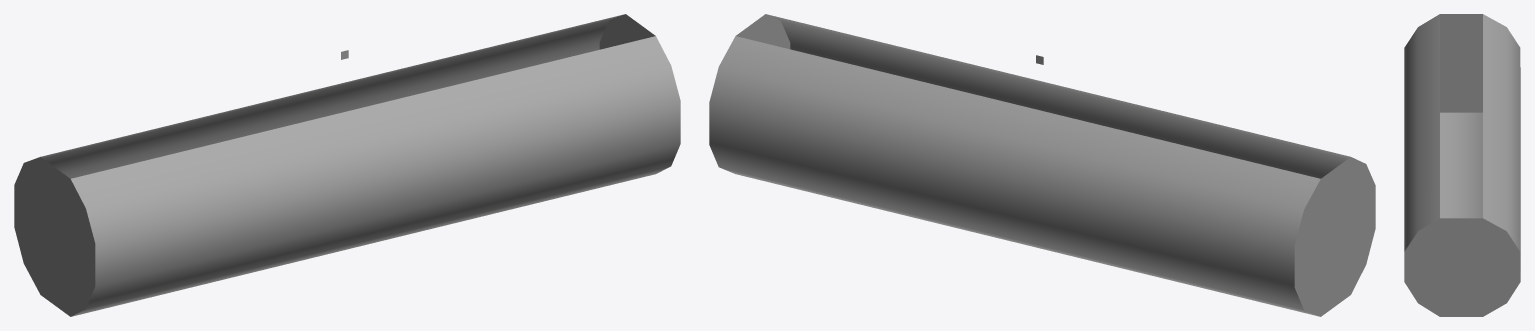
Rendered from LidMeshLaptopLid_28_1_GeomSubset_1.obj.
3 views of the same model, side by side, from view 1: azimuth 30°, elevation 25°; view 2: azimuth 150°, elevation 25°; view 3: azimuth 270°, elevation 25° (orthographic). The views are drawn at different scales.
Visible parts, largest first — view 1: LidMeshLaptopLid_28_1_GeomSubset_1; view 2: LidMeshLaptopLid_28_1_GeomSubset_1; view 3: LidMeshLaptopLid_28_1_GeomSubset_1.
Boxes of the visible parts, box(x1,y1,x2,y2) form: LidMeshLaptopLid_28_1_GeomSubset_1: box(14, 14, 680, 316); LidMeshLaptopLid_28_1_GeomSubset_1: box(709, 14, 1375, 316); LidMeshLaptopLid_28_1_GeomSubset_1: box(1404, 14, 1520, 316).
Bounding box in the file's own units: 0.0957 × 0.0283 × 0.023.
